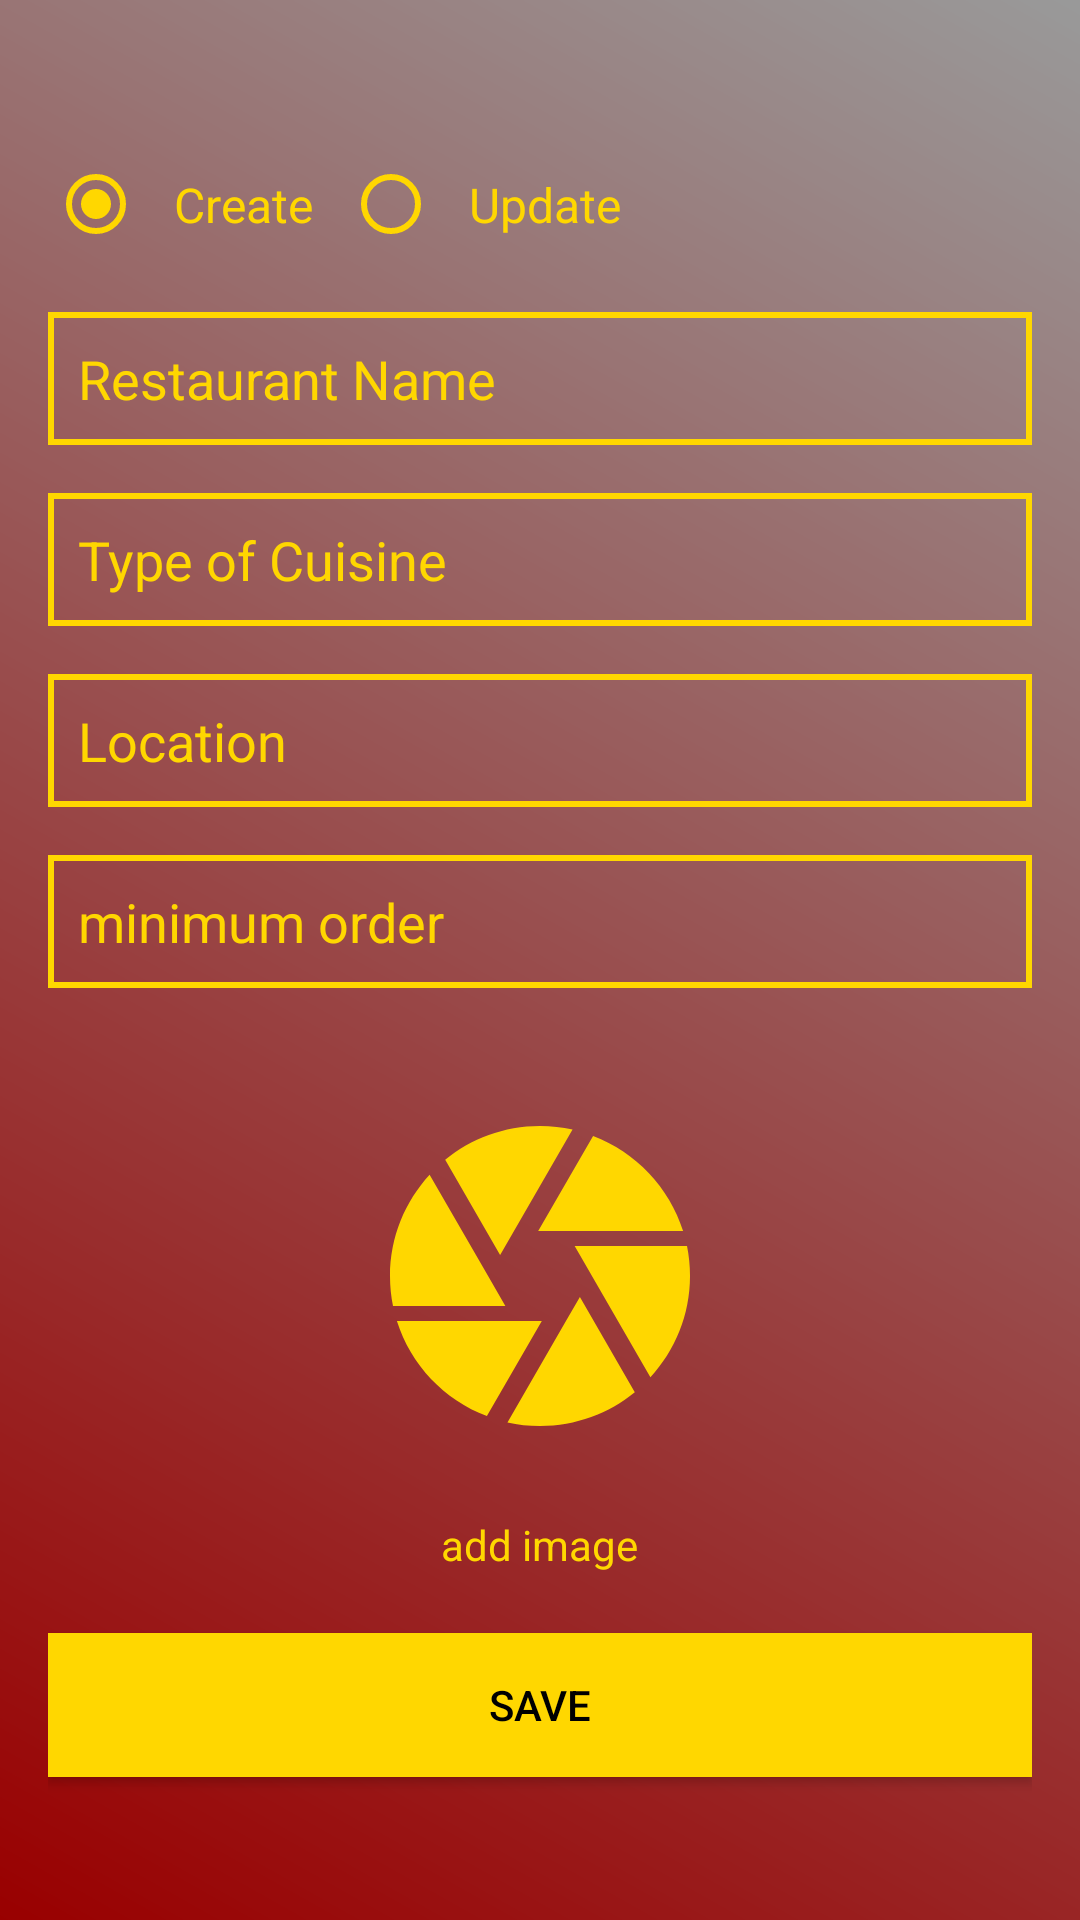

Named icons in this screenshot (1080 x 1920) and their centers, (x,y):
camera: (540,1276)
